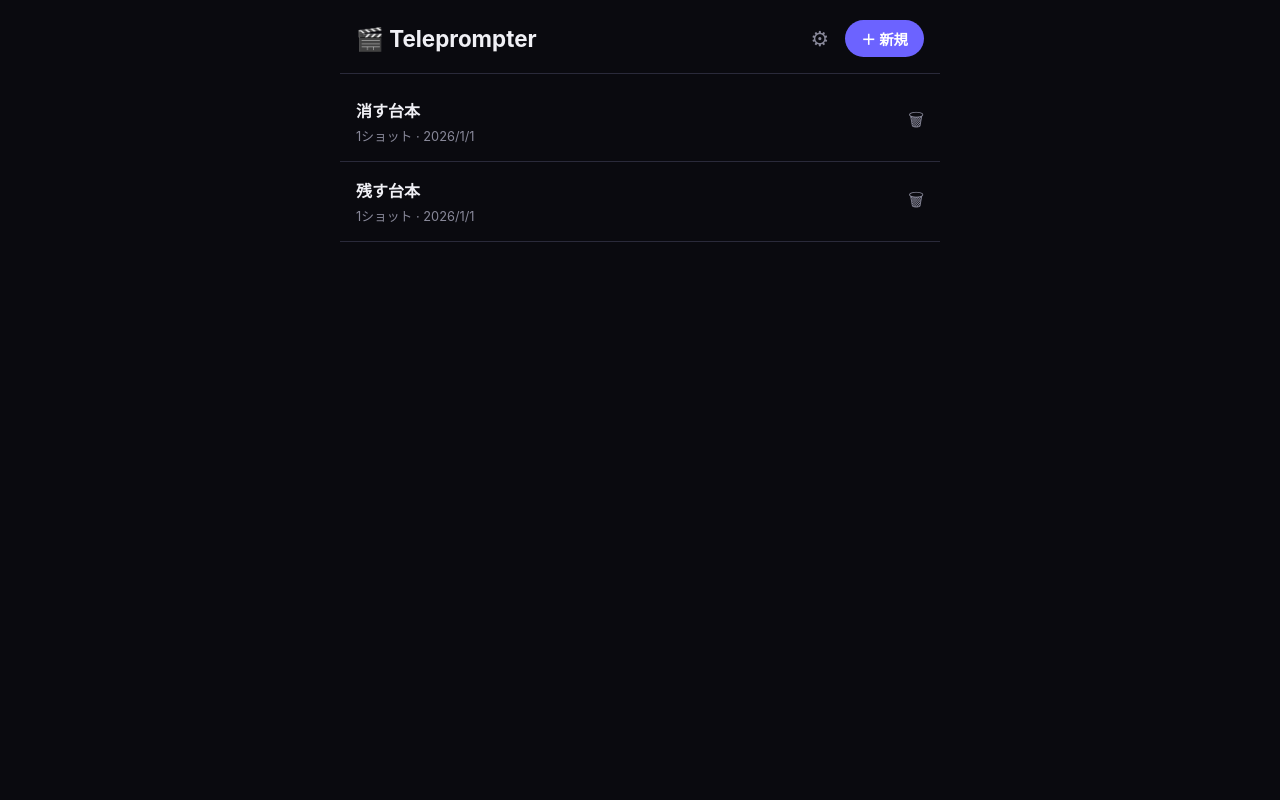
Test: HomePage: deleting a script › brings the script back with 元に戻す, videos and all
Click the button named "削除".
click(916, 122)  # box [892,90,940,152]
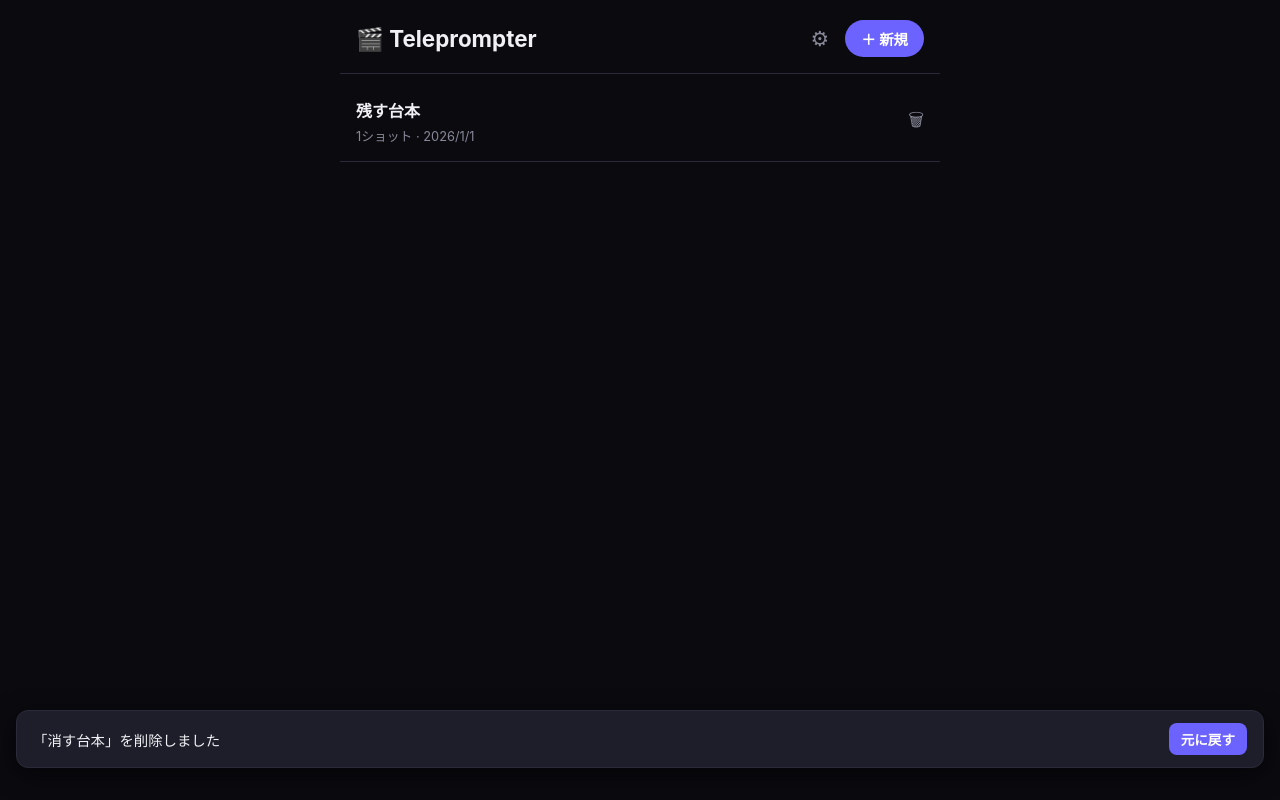
Click the button "元に戻す".
click(1208, 739)  # box [1169,723,1247,755]
Wait 10000 ms
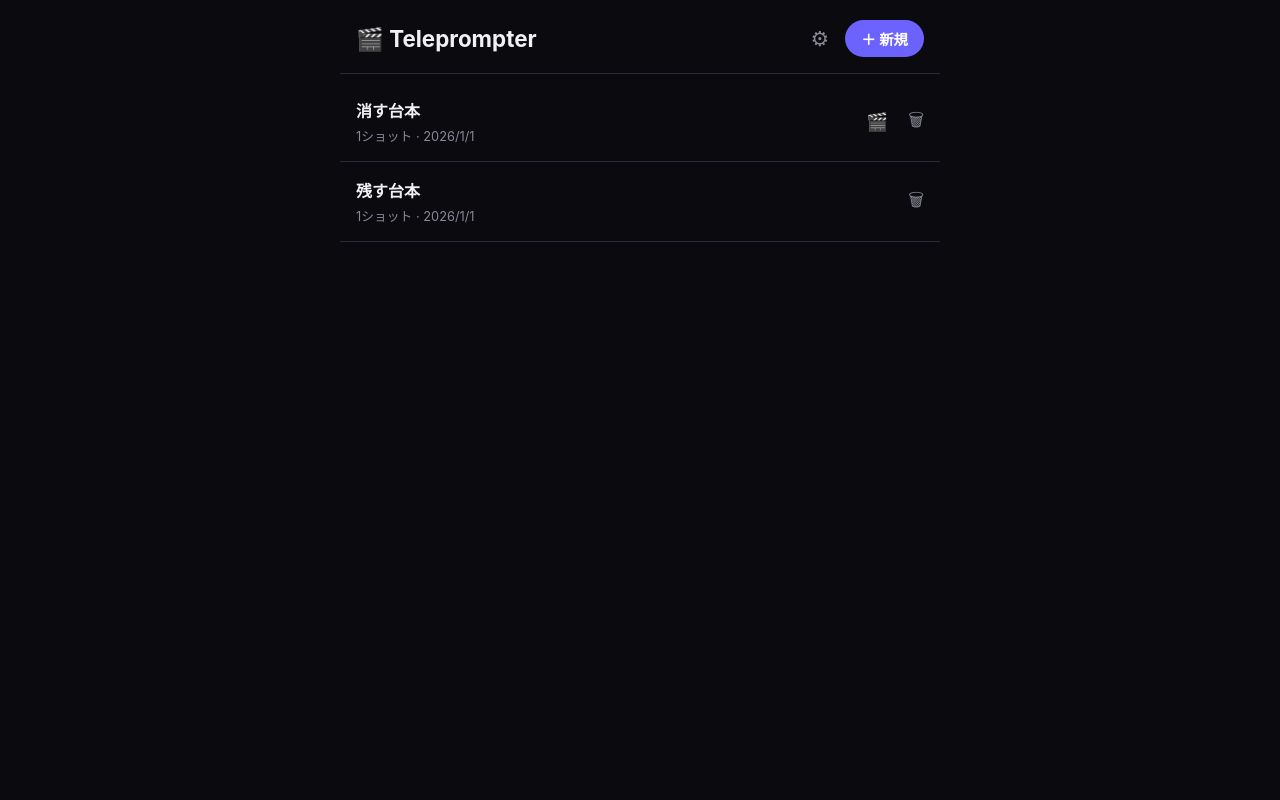
Expected: the text "消す台本" is shown, [356,98,420,122]
Result: the message "「消す台本」を削除しました 元に戻す" is gone
